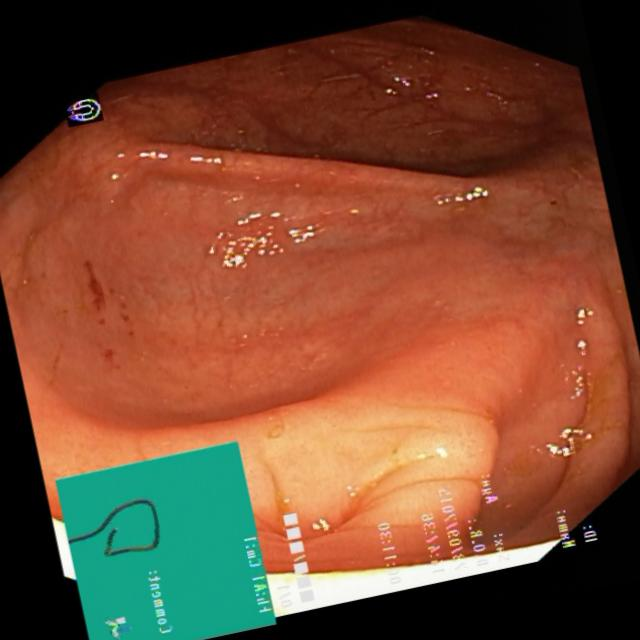normal-cecum: (192, 191, 312, 281), (72, 245, 140, 387)
